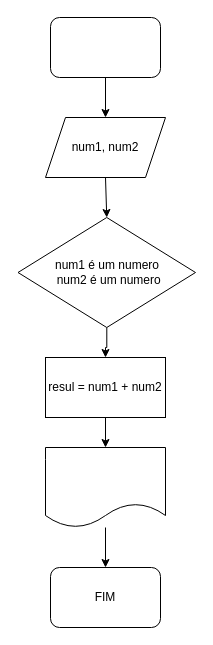
The diagram is 213 pixels wide and 645 high, and some of its shapes have lost their labels. Here are the shapes that lost their labels. From the top down, the centre of each, then its label:
At pixel 105 47: "INICIO".
At pixel 105 487: "resul".
